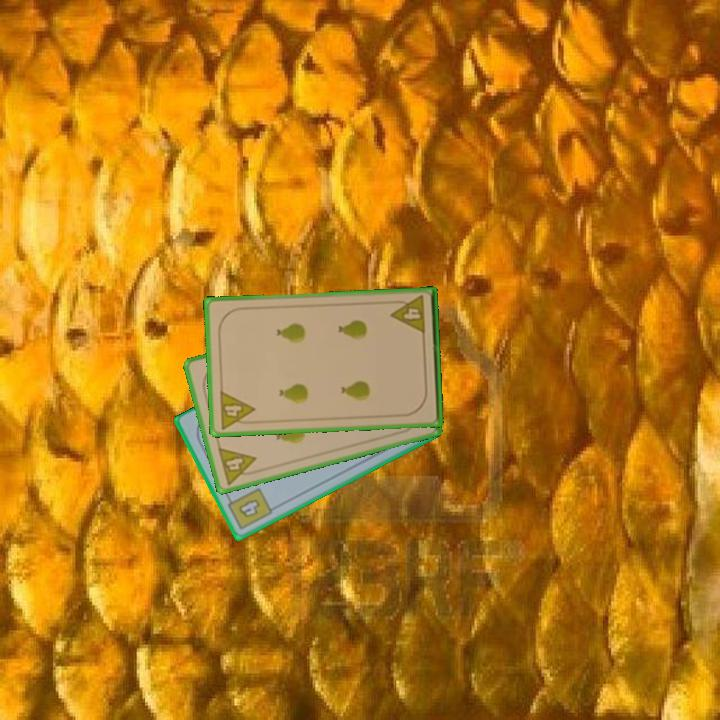4b: (223, 484, 275, 533)
4p: (214, 444, 262, 487), (216, 387, 258, 432), (387, 292, 428, 337)
